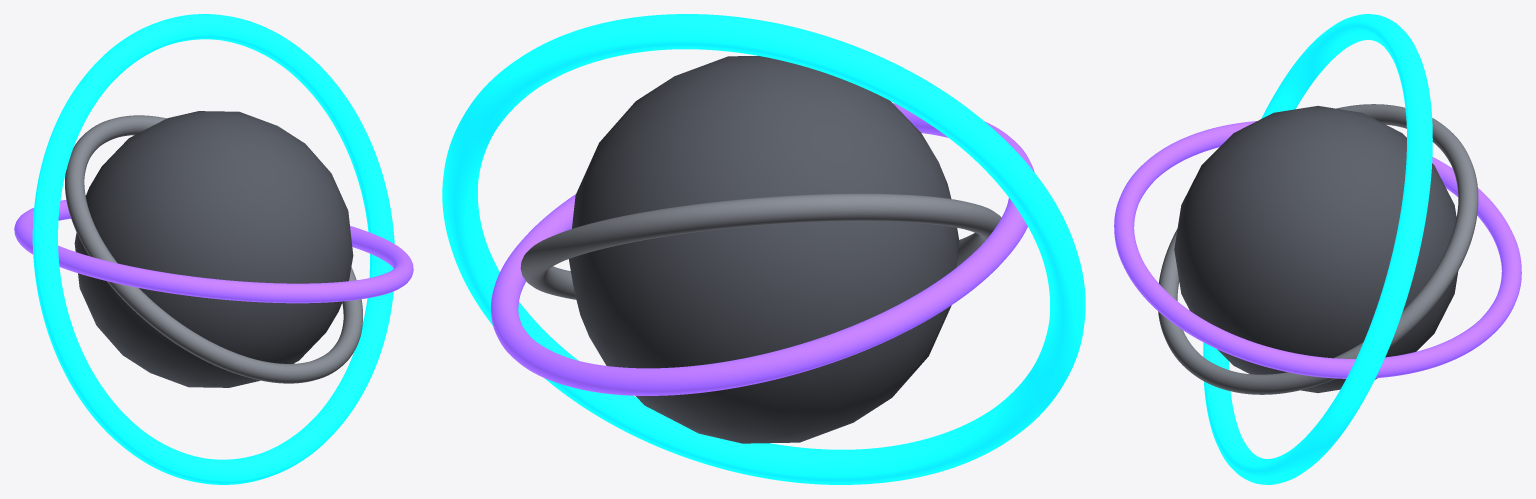
The model's file is ai-core.glb.
3 views of the same model, side by side, from view 1: azimuth 30°, elevation 25°; view 2: azimuth 150°, elevation 25°; view 3: azimuth 270°, elevation 25° (orthographic). The views are drawn at different scales.
Visible parts, largest first — view 1: AI_Core; view 2: AI_Core; view 3: AI_Core.
Part boxes in pixels (x1=…): AI_Core: x1=14, y1=14, x2=413, y2=484; AI_Core: x1=442, y1=14, x2=1085, y2=484; AI_Core: x1=1114, y1=14, x2=1521, y2=484.
Size of the model in its own units: 2.1 by 2.01 by 1.82.
